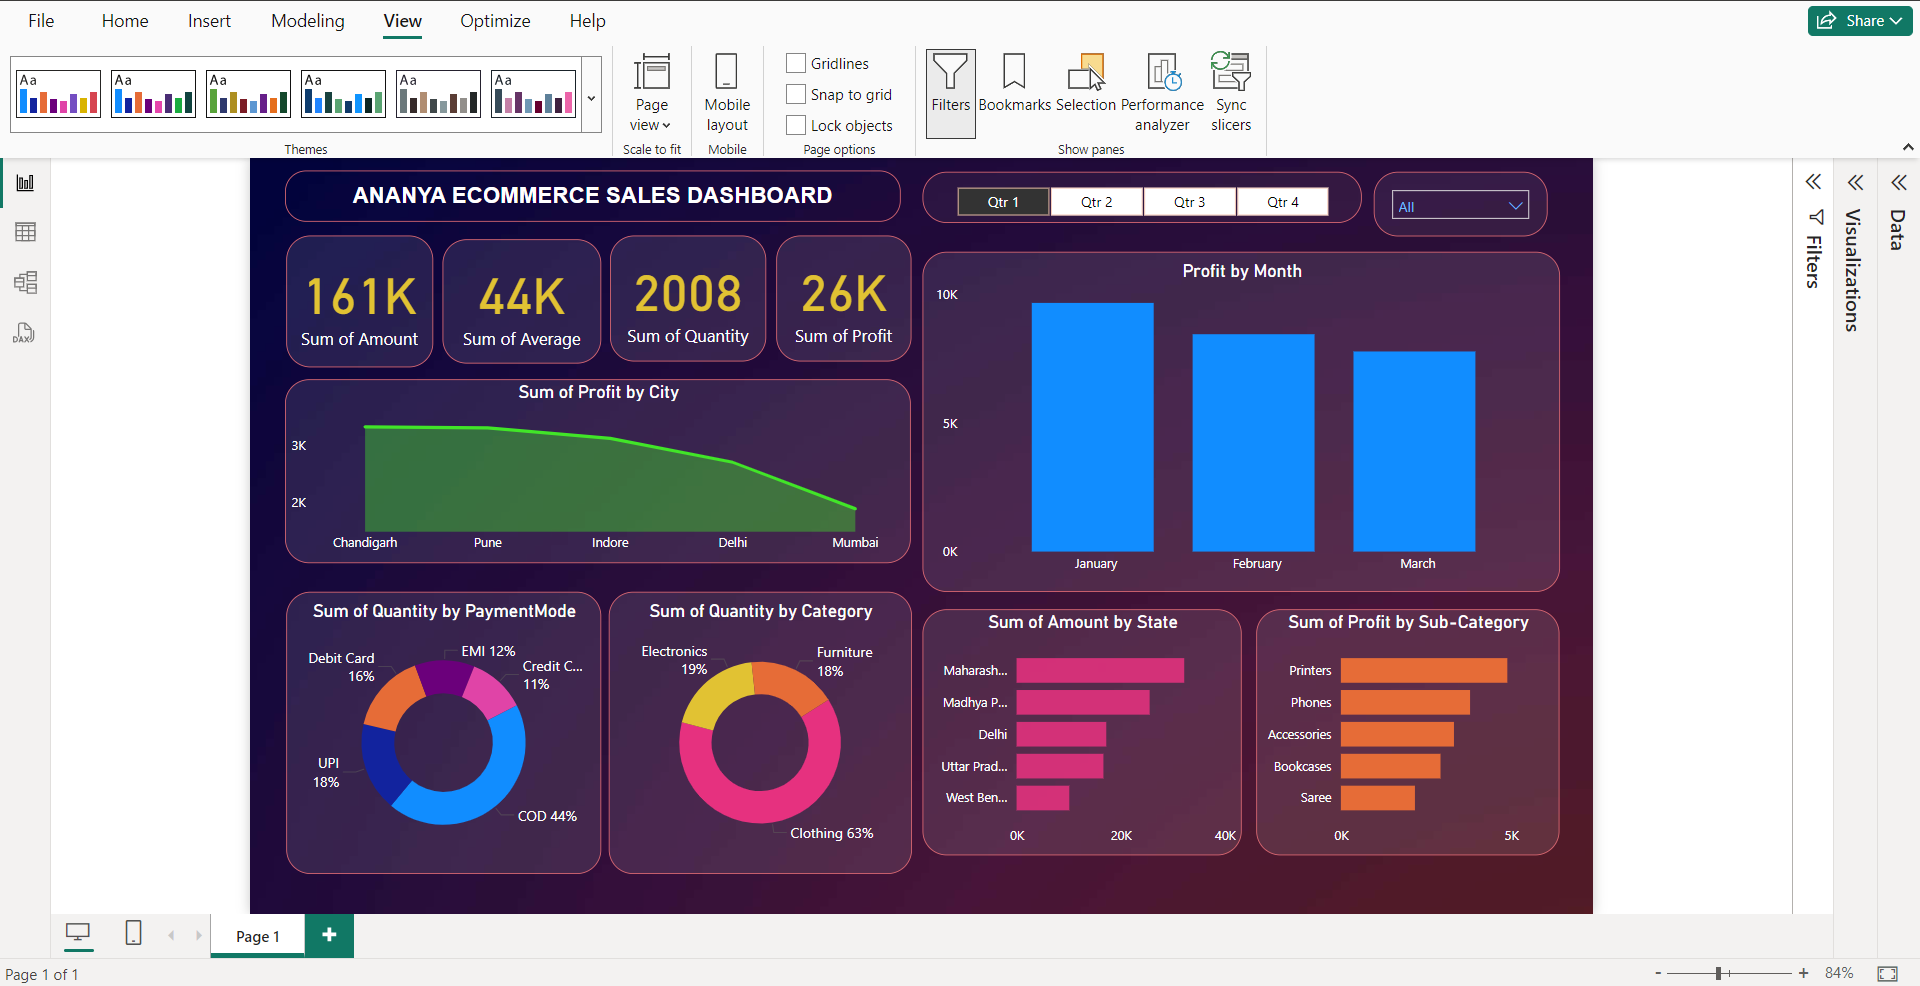

The dashboard page shown, as its layout file describes it:
{"tool":"powerbi","page":{"name":"Page 1","canvas":[1280,720],"ordinal":0},"visuals":[{"type":"textbox","box":[33.8,12.5,586.2,48.8],"z":0},{"type":"columnChart","title":" Profit by Month","fields":{"Category":["Orders.Order Date.Variation.Date Hierarchy.Month"],"Y":["Details.Profit"]},"box":[640,88.8,607.5,323.8],"z":1000},{"type":"barChart","fields":{"Category":["Details.Sub-Category"],"Y":["Details.Profit"]},"box":[958.6,430,288.6,234.3],"z":2000},{"type":"donutChart","fields":{"Category":["Details.Category"],"Y":["Details.Quantity"]},"box":[341.4,412.9,288.6,268.6],"z":3000},{"type":"donutChart","fields":{"Category":["Details.PaymentMode"],"Y":["Details.Quantity"]},"box":[34.3,412.9,300,268.6],"z":4000},{"type":"card","fields":{"Values":["Details.Amount"]},"box":[34.3,74.3,140,125.7],"z":5000},{"type":"card","fields":{"Values":["Details.Profit"]},"box":[501.4,74.3,128.6,120],"z":6000},{"type":"card","fields":{"Values":["Details.Quantity"]},"box":[342.9,74.3,148.6,120],"z":7000},{"type":"card","fields":{"Values":["Details.Average"]},"box":[182.9,77.1,151.4,118.6],"z":8000},{"type":"barChart","fields":{"Category":["Orders.State"],"Y":["Details.Amount"]},"box":[640,430,304.3,234.3],"z":9000},{"type":"areaChart","fields":{"Category":["Orders.City"],"Y":["Details.Profit"]},"box":[33.8,211.2,596.2,175],"z":10000},{"type":"slicer","fields":{"Values":["Orders.State"]},"box":[1070,12.9,165.7,61.4],"z":11000},{"type":"slicer","fields":{"Values":["Orders.Order Date.Variation.Date Hierarchy.Quarter"]},"box":[640,12.9,418.6,48.6],"z":12000}]}

Visuals, with their boxes on the page's 1280x720 design canvas (x1, y1, x2, y2). These are canvas units, not pixel positions in the 1920x986 screenshot, which may show the page scaled, cropped or inside an application window:
textbox: [34,12,620,61]
" Profit by Month" columnChart: [640,89,1248,413]
barChart - Details.Sub-Category x Details.Profit: [959,430,1247,664]
donutChart - Details.Category x Details.Quantity: [341,413,630,682]
donutChart - Details.PaymentMode x Details.Quantity: [34,413,334,682]
card - Details.Amount: [34,74,174,200]
card - Details.Profit: [501,74,630,194]
card - Details.Quantity: [343,74,492,194]
card - Details.Average: [183,77,334,196]
barChart - Orders.State x Details.Amount: [640,430,944,664]
areaChart - Orders.City x Details.Profit: [34,211,630,386]
slicer - Orders.State: [1070,13,1236,74]
slicer - Orders.Order Date.Variation.Date Hierarchy.Quarter: [640,13,1059,62]
